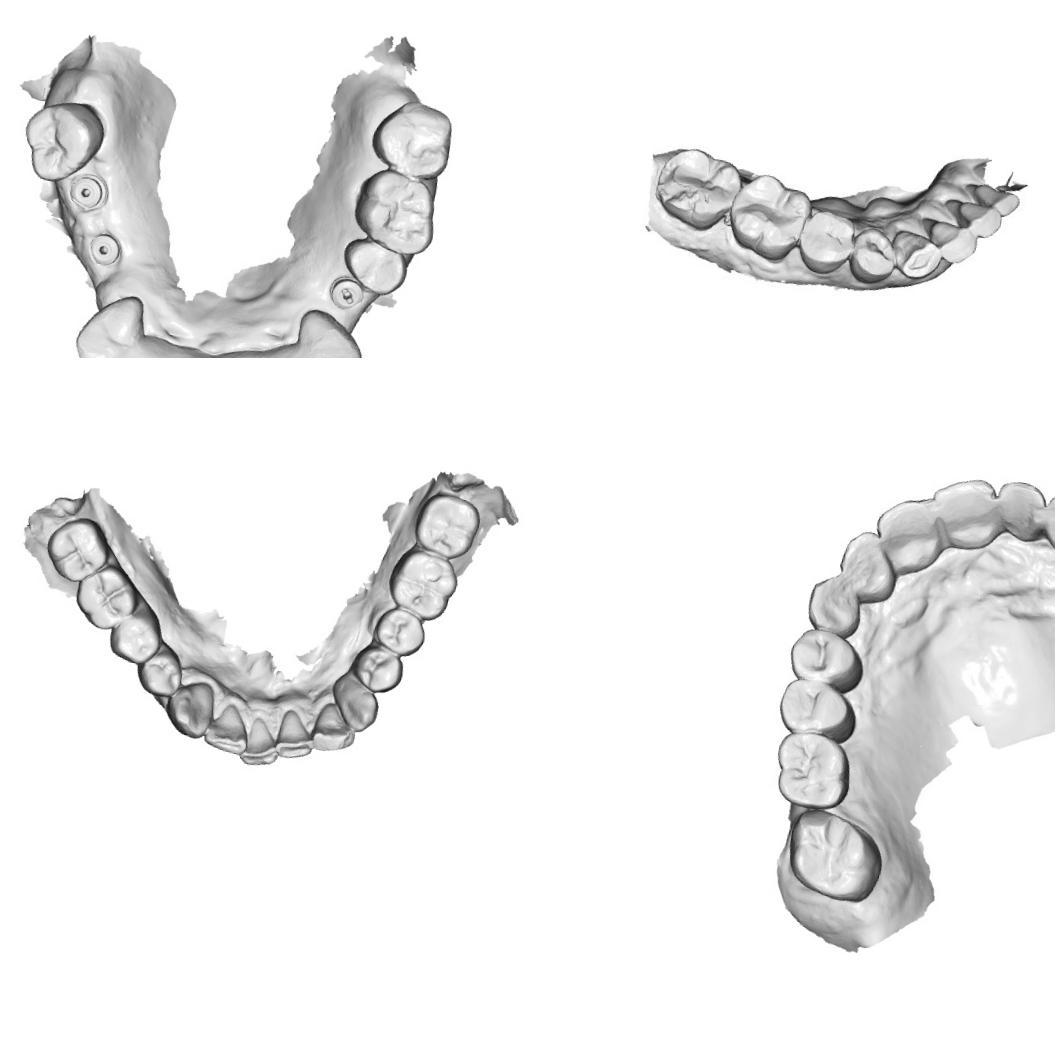canine: (67, 283, 148, 358), (801, 570, 869, 642), (291, 306, 370, 358), (163, 676, 218, 743), (326, 674, 384, 736), (888, 228, 945, 285), (1034, 486, 1055, 564)
implant: (66, 170, 109, 213), (84, 228, 124, 269)
implant_minus: (324, 276, 368, 317)
incisor: (922, 469, 1004, 556), (868, 492, 949, 578), (829, 526, 903, 606), (990, 477, 1051, 547), (307, 698, 360, 758), (202, 698, 254, 758), (923, 218, 981, 269), (273, 706, 319, 762), (952, 197, 1004, 244), (240, 716, 282, 770), (970, 180, 1023, 222)
molar: (780, 804, 891, 906), (650, 136, 748, 236), (345, 164, 444, 262), (15, 93, 110, 191), (365, 93, 459, 184), (724, 168, 812, 263), (766, 729, 856, 814), (382, 545, 464, 625), (41, 511, 116, 589), (410, 488, 486, 564), (70, 560, 144, 637)
premolar: (773, 674, 863, 744), (784, 624, 869, 692), (336, 235, 412, 300), (794, 205, 860, 275), (368, 603, 430, 662), (846, 224, 902, 287), (104, 610, 164, 668), (346, 642, 408, 697), (134, 644, 187, 701)
